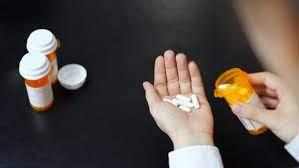jar: (18, 51, 55, 113), (210, 65, 259, 108)
